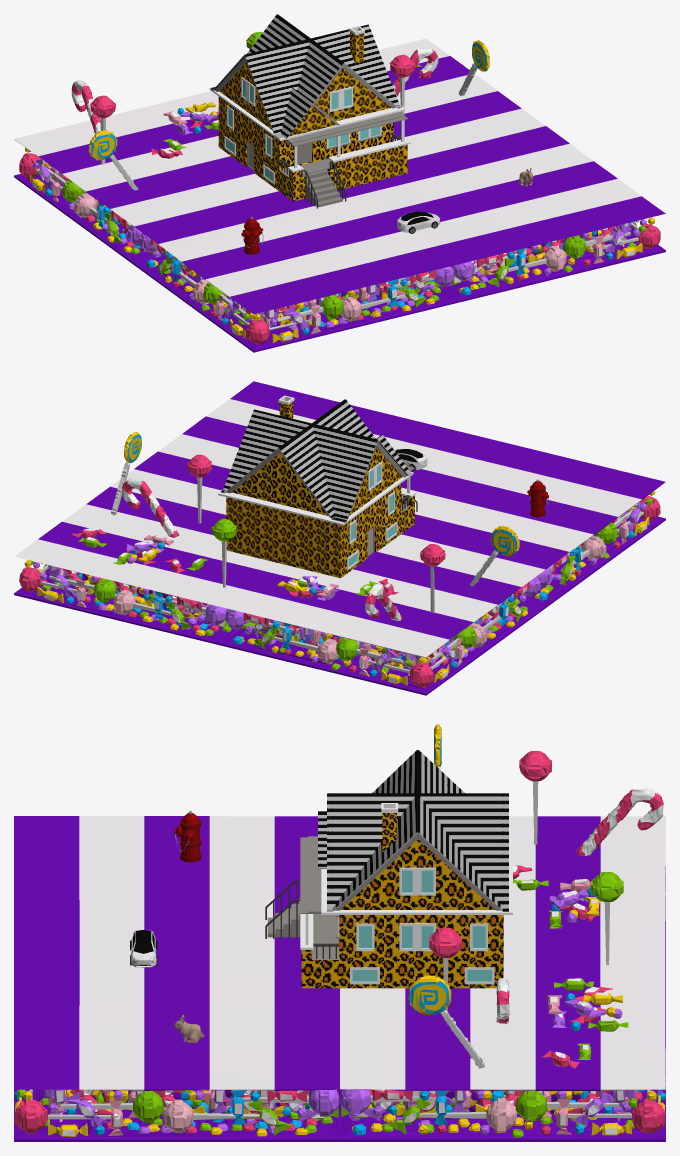
3 views of the same model, one above another, from view 1: azimuth 30°, elevation 25°; view 2: azimuth 150°, elevation 25°; view 3: azimuth 270°, elevation 25° (orthographic). The views are drawn at different scales.
Parts seen in each view (by area): view 1: TERRAIN_CANDY, Cube.637, VEHICLES_TESLA, OBJRANDOM_FIRE_HYDRANT; view 2: TERRAIN_CANDY, Cube.637, OBJRANDOM_FIRE_HYDRANT, VEHICLES_TESLA; view 3: TERRAIN_CANDY, Cube.637, OBJRANDOM_FIRE_HYDRANT, VEHICLES_TESLA.
Boxes of the visible parts, x1=… form: TERRAIN_CANDY: x1=14, y1=31, x2=665, y2=352; Cube.637: x1=209, y1=14, x2=410, y2=208; VEHICLES_TESLA: x1=397, y1=211, x2=440, y2=233; OBJRANDOM_FIRE_HYDRANT: x1=241, y1=217, x2=263, y2=254; TERRAIN_CANDY: x1=14, y1=381, x2=665, y2=695; Cube.637: x1=218, y1=395, x2=417, y2=578; OBJRANDOM_FIRE_HYDRANT: x1=527, y1=479, x2=549, y2=517; VEHICLES_TESLA: x1=395, y1=449, x2=427, y2=471; TERRAIN_CANDY: x1=14, y1=724, x2=665, y2=1141; Cube.637: x1=265, y1=750, x2=512, y2=988; OBJRANDOM_FIRE_HYDRANT: x1=174, y1=810, x2=201, y2=862; VEHICLES_TESLA: x1=130, y1=930, x2=157, y2=967.
Bounding box in the file's own units: 4059 × 1584 × 4000.
Materials: 27 (3 with a texture image).
